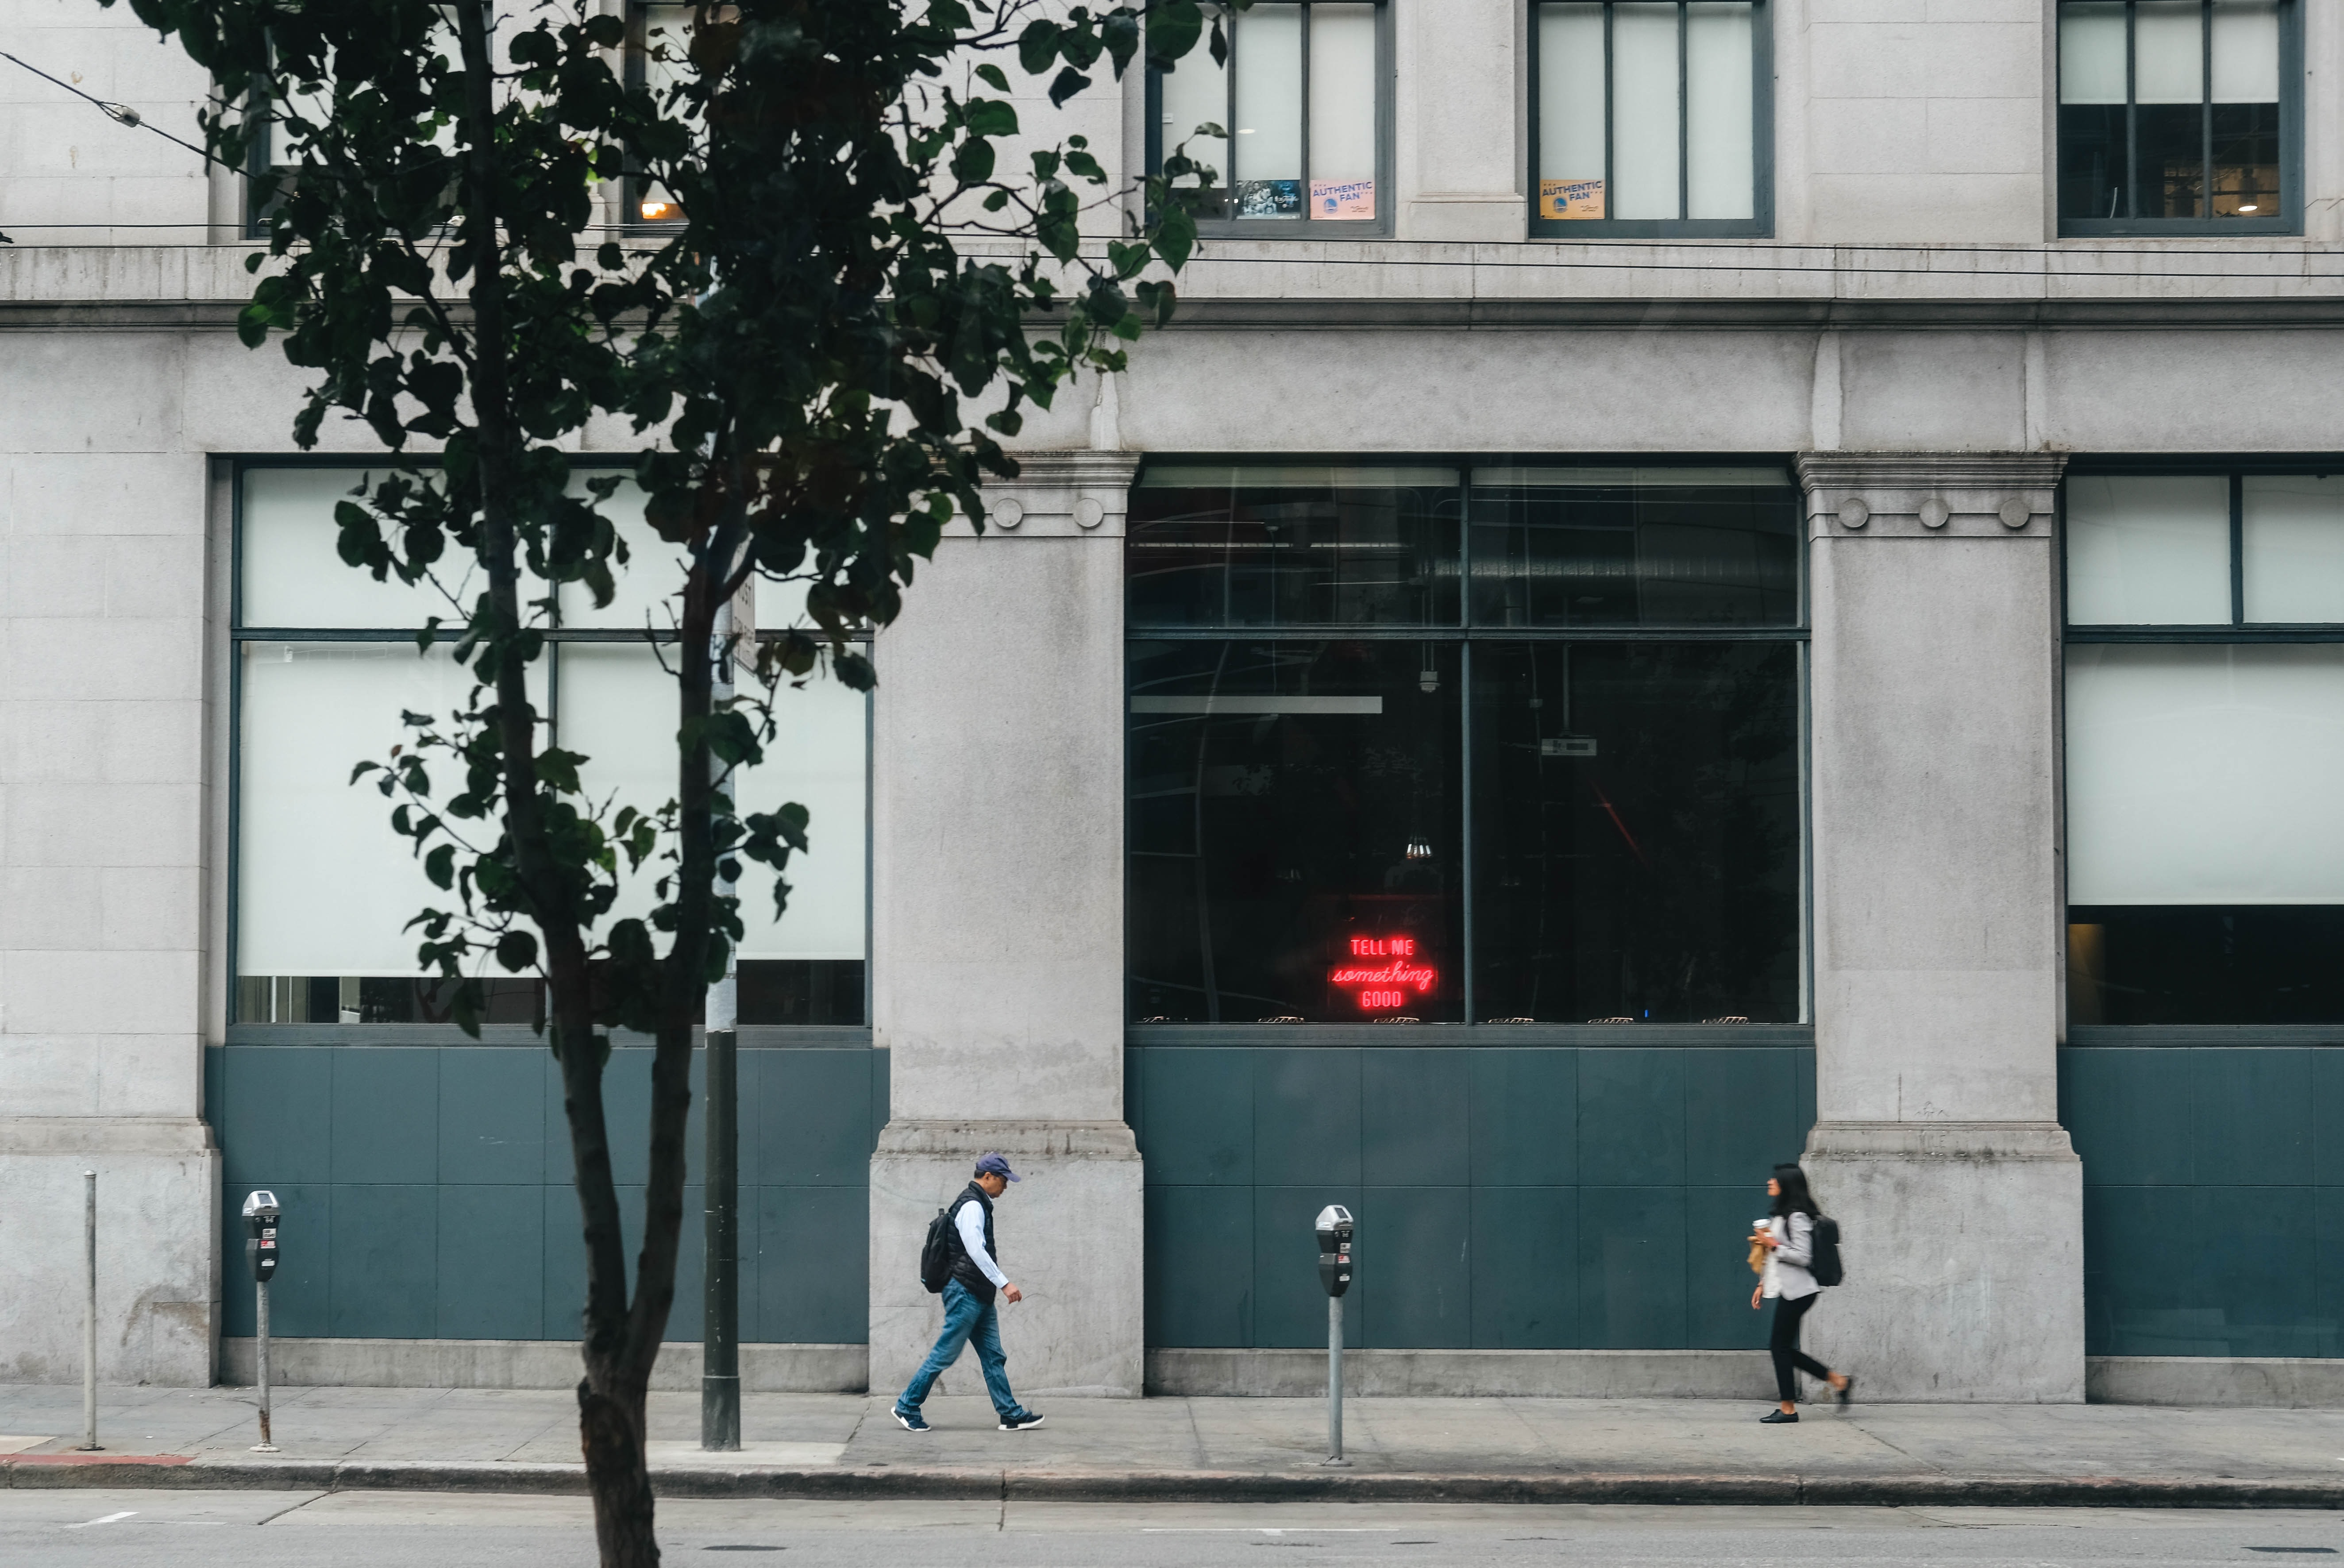tree: (100, 2, 1254, 1568)
